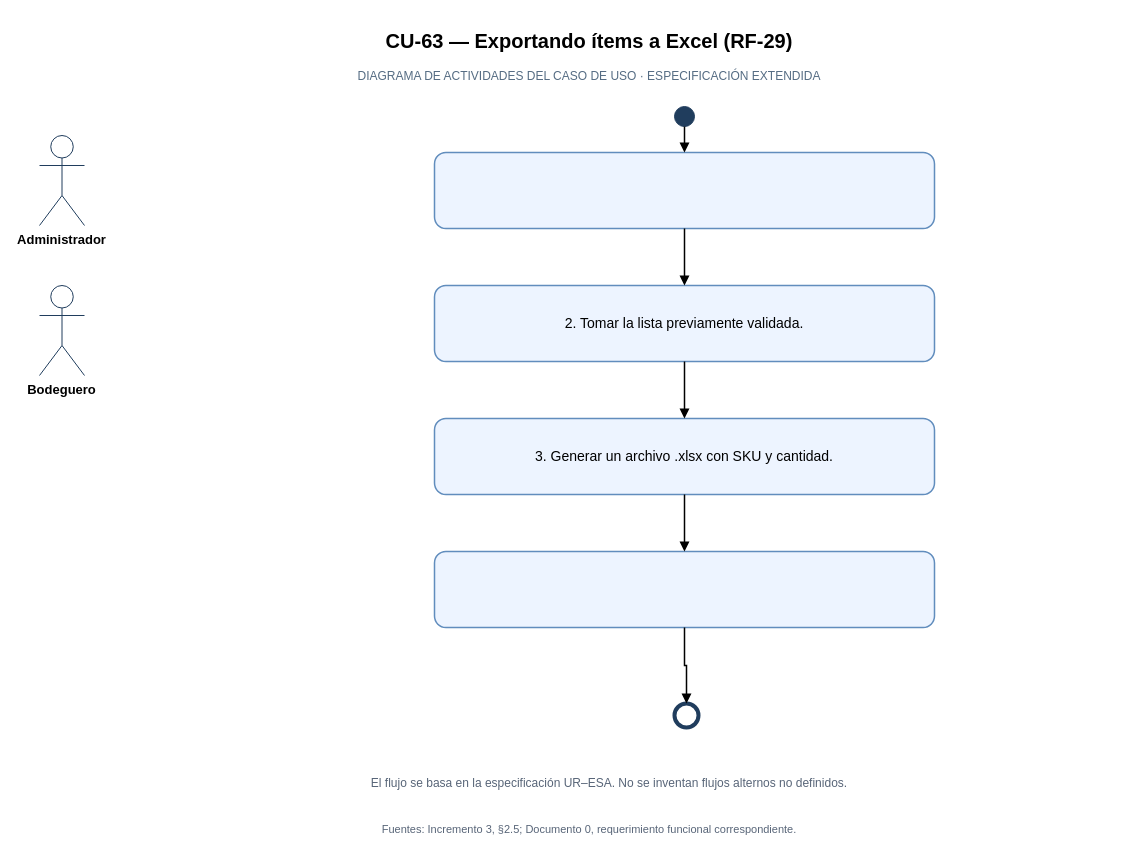
This 1126x858 diagram has some shape labels left out. Each missing label, with the centre of its shape:
"1. Seleccionar la exportación a Excel de los ítems válidos." belongs at point (684, 190).
"4. Entregar el archivo para su descarga." belongs at point (684, 589).
